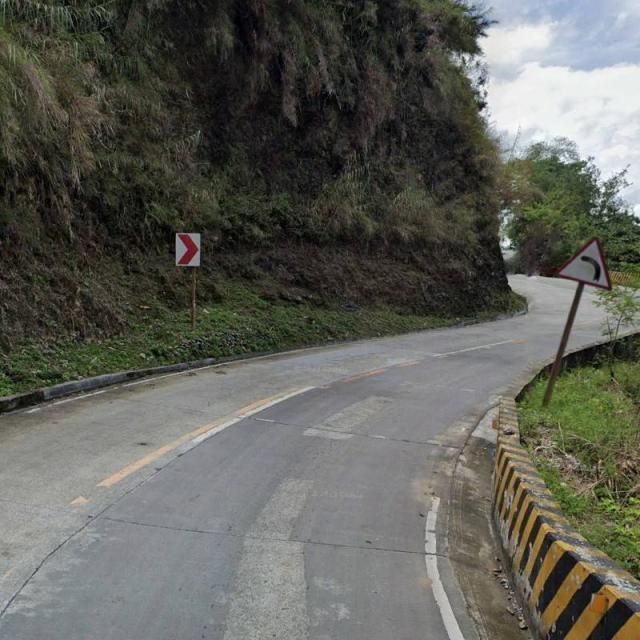warn_left_curve: (554, 236, 613, 291)
